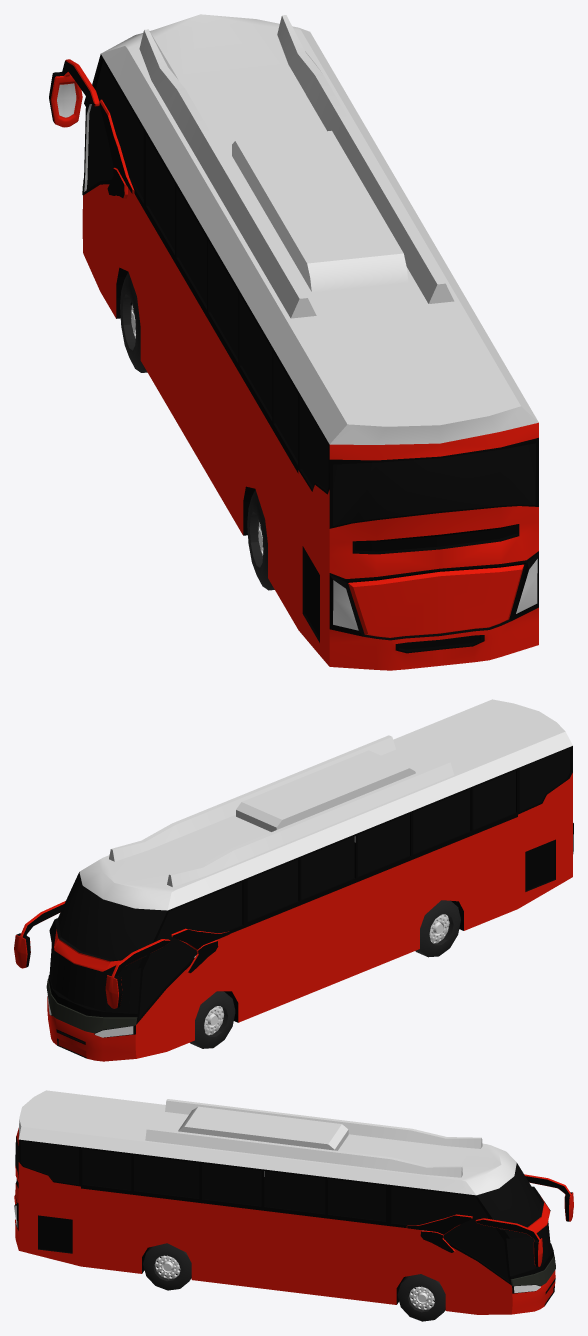
File: bus1.glb
The picture shows the model from 3 angles, top to bottom: view 1: azimuth 30°, elevation 25°; view 2: azimuth 150°, elevation 25°; view 3: azimuth 270°, elevation 25°; orthographic projection. The views are drawn at different scales.
Visible parts, largest first — view 1: body_bus; view 2: body_bus; view 3: body_bus.
Part boxes in pixels (x1=…): body_bus: x1=49, y1=14, x2=538, y2=670; body_bus: x1=14, y1=699, x2=573, y2=1061; body_bus: x1=14, y1=1090, x2=573, y2=1321.
Bounding box in the file's own units: 7.54 × 4.87 × 16.
